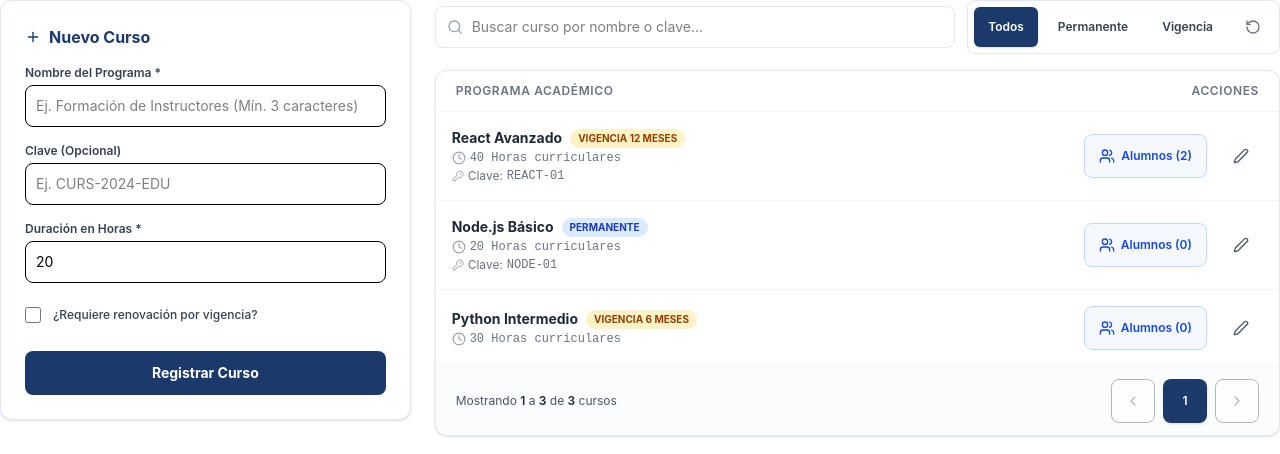
Test: ModuloCursos › listado y filtros › filtra cursos por clave también
Type "NODE-01" into the search field named "buscar cursos" at (695, 27), box [435, 6, 955, 48]
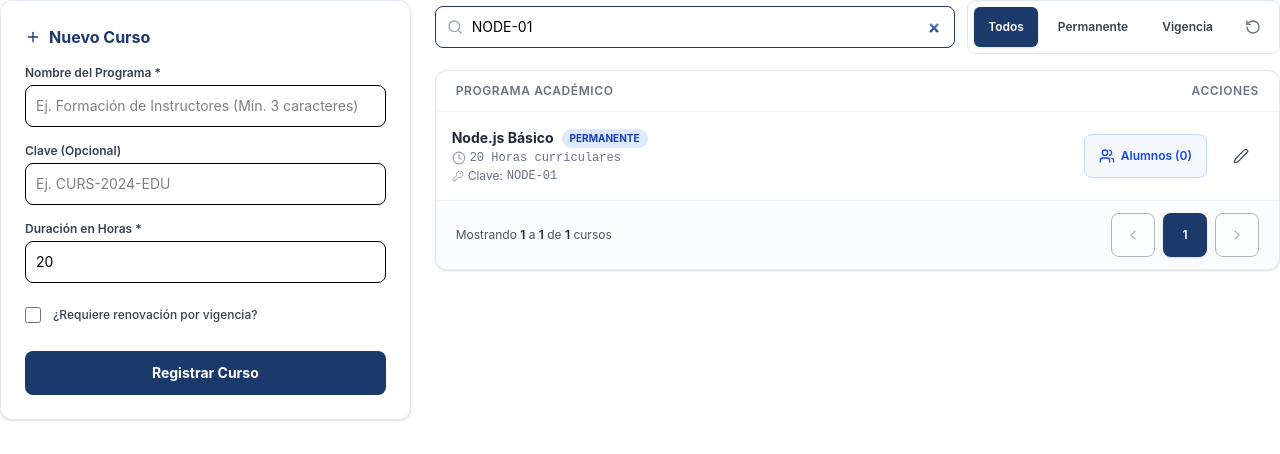
Expected: the text "Node.js Básico" is shown, [452, 128, 554, 148]
Result: the text "React Avanzado" is gone
